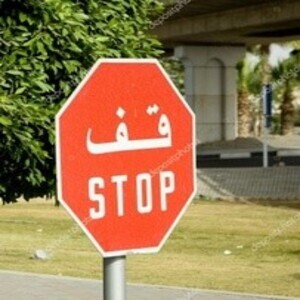stop: (55, 59, 196, 257)
